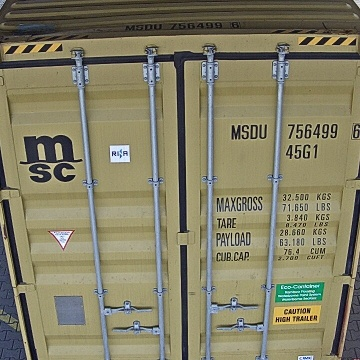serial_id: (231, 122, 360, 139)
